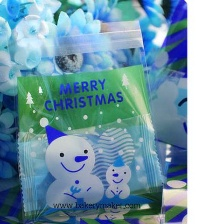snack: (2, 12, 171, 224)
